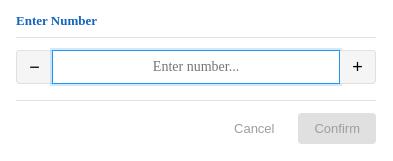
NumberInputWidget › should increment/decrement value
The width and height of the screenshot is (393, 161).
Step 1. Type "10" into the field with placeholder "Enter number..." → (196, 67), box 52,50 -> 340,84
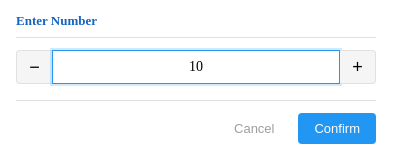
Step 2. Click the button named "Increase" → (358, 67), box 340,50 -> 376,84
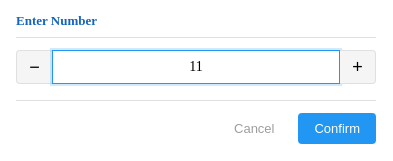
Expected: the field with placeholder "Enter number..." holds "11", 52,50 -> 340,84
